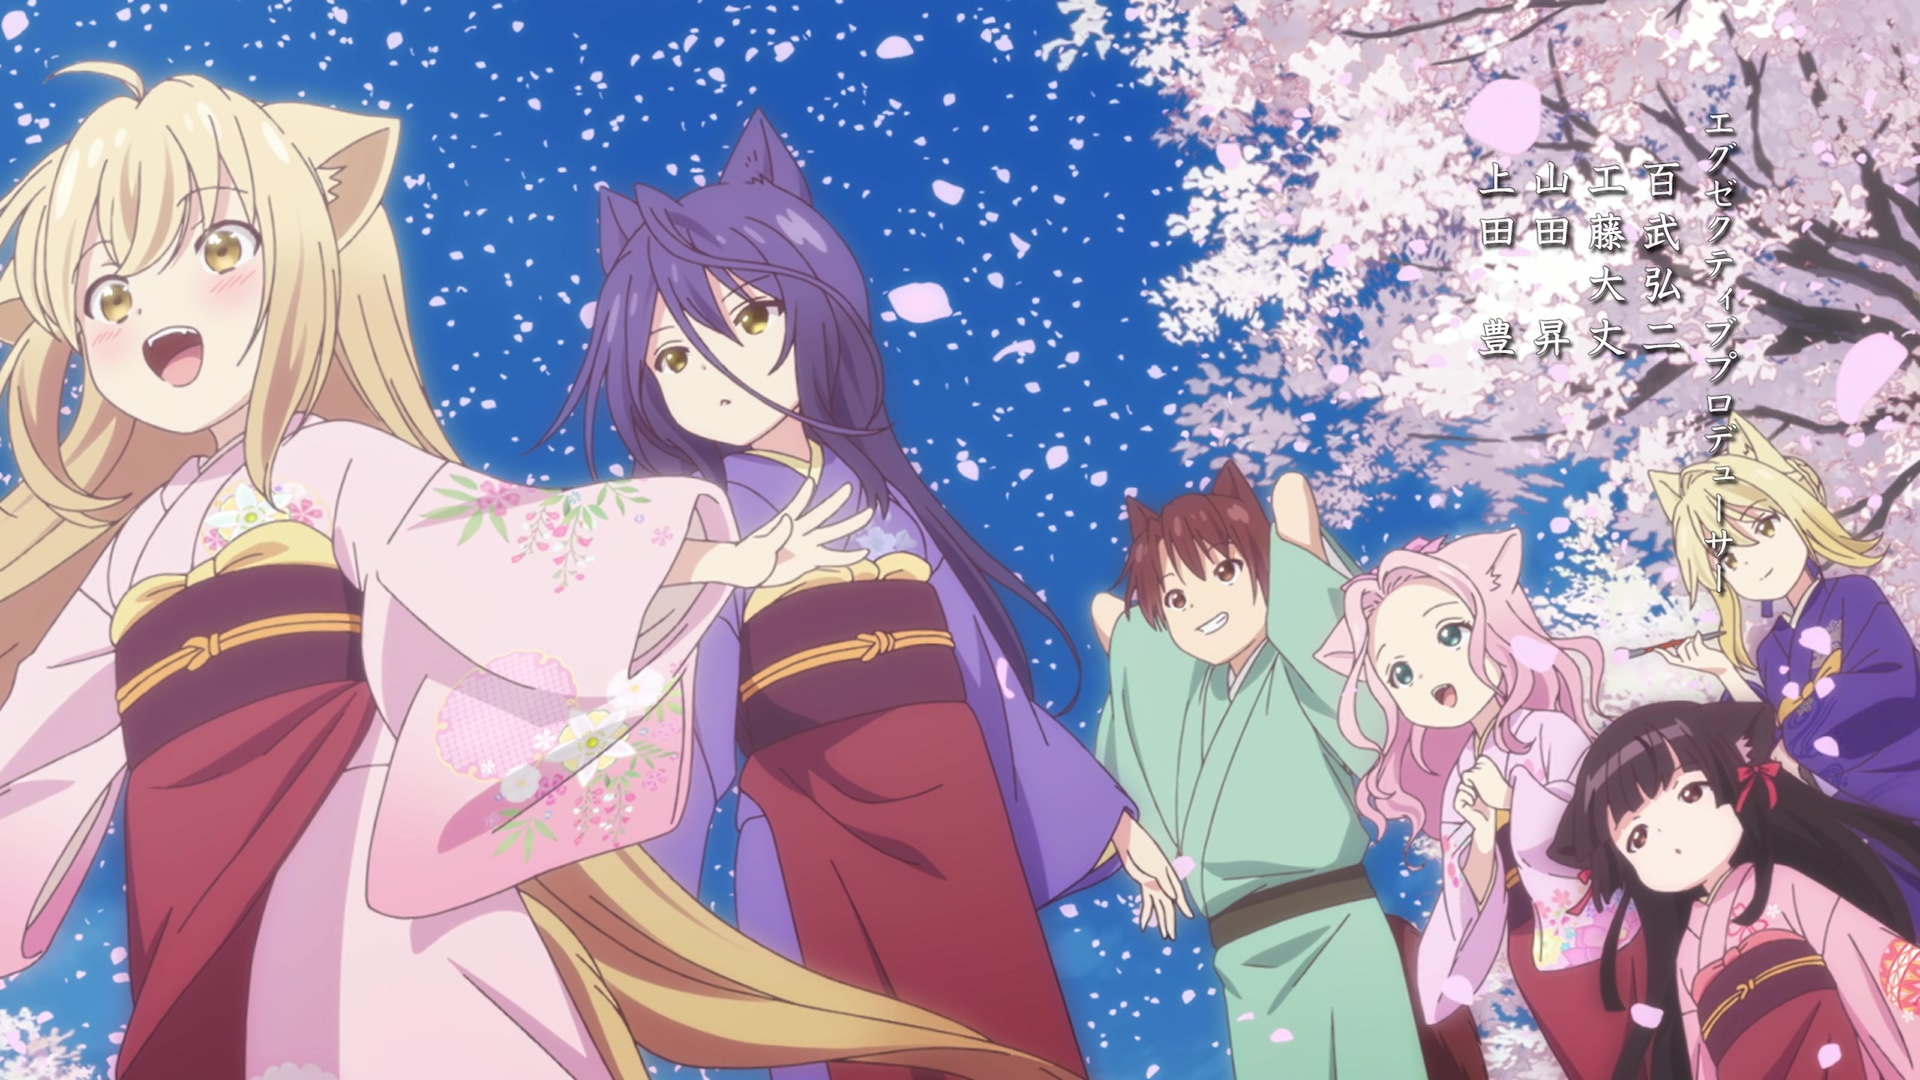枣: (1091, 460, 1424, 1080)
柚: (1, 61, 1073, 1080)
桐: (1651, 415, 1920, 893)
樱: (1548, 702, 1920, 1080)
皋: (521, 109, 1191, 1080)
莲: (1313, 530, 1647, 1080)
